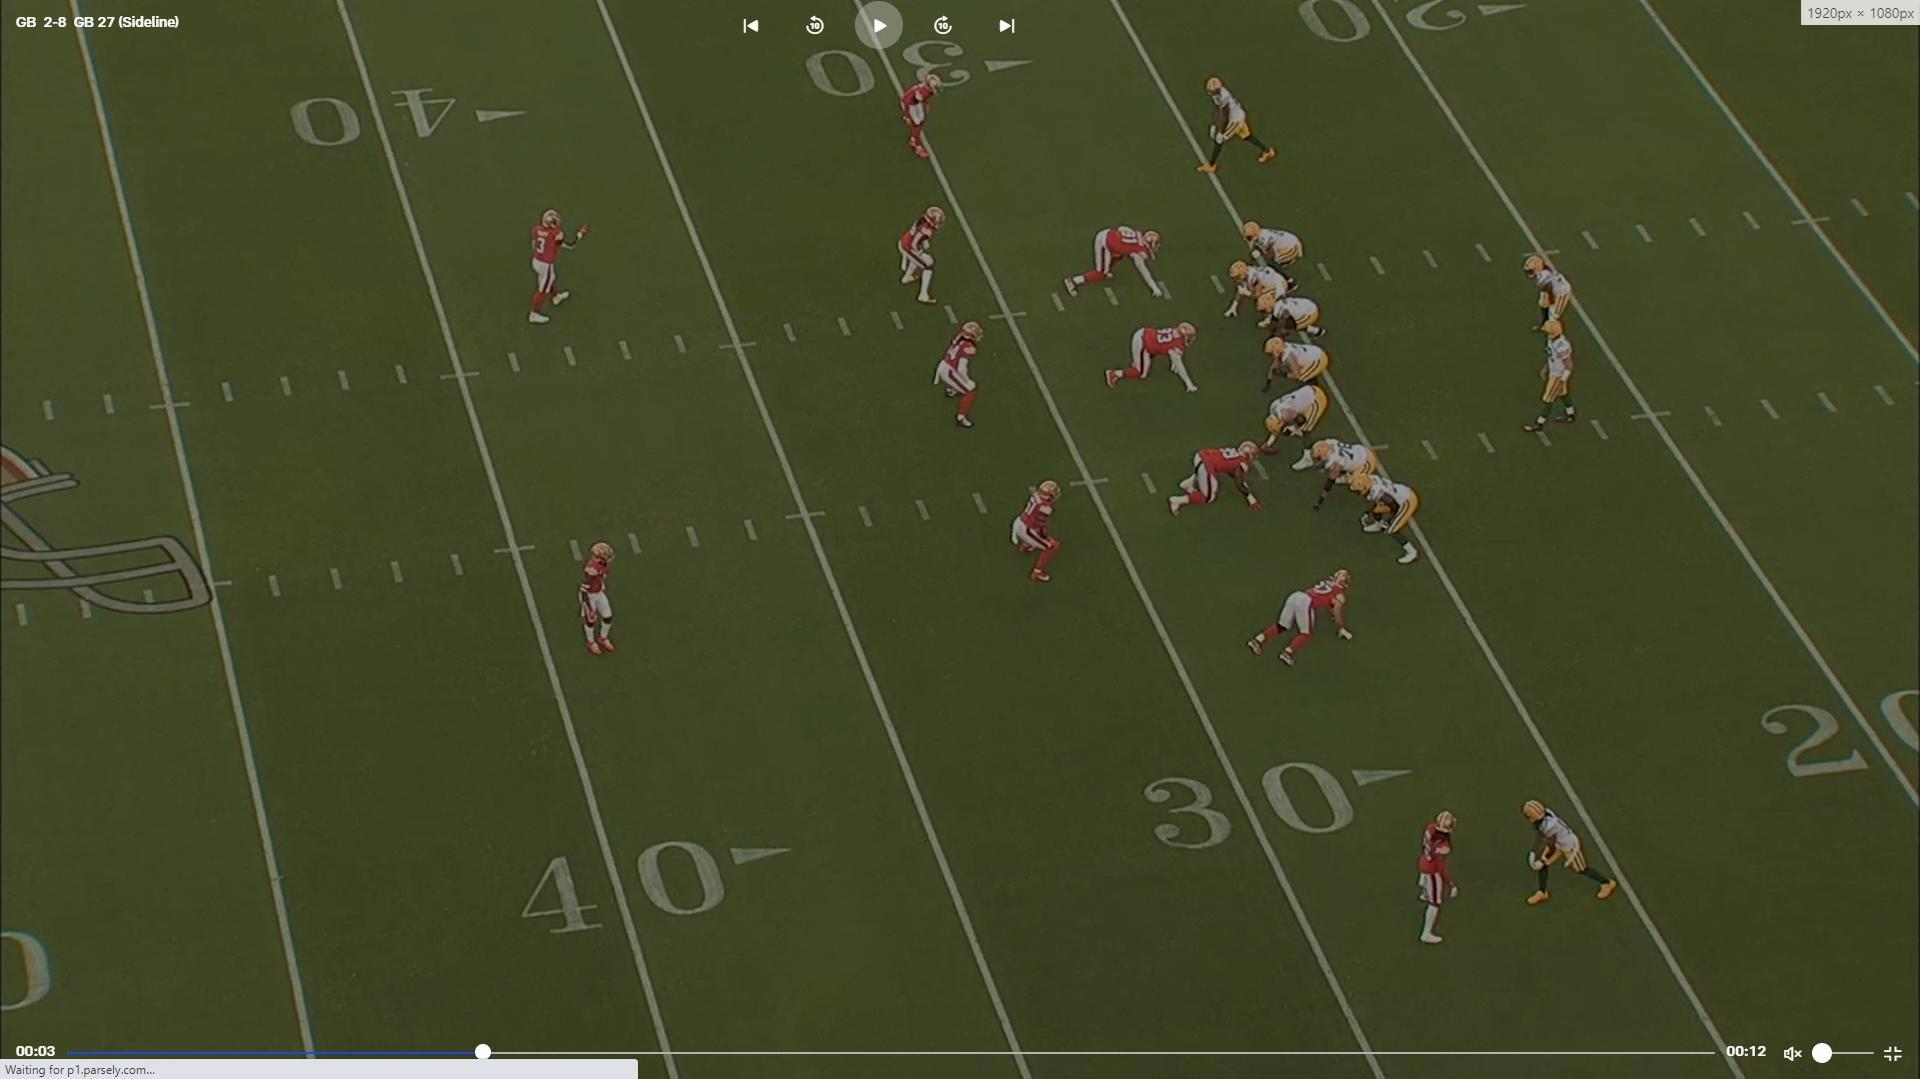defense: (1244, 567, 1356, 667), (1162, 442, 1263, 520), (1062, 223, 1163, 298), (1415, 807, 1468, 951), (1108, 321, 1207, 397), (526, 206, 582, 330), (932, 318, 989, 435), (1013, 479, 1072, 590), (579, 541, 630, 665), (899, 200, 953, 309), (903, 67, 948, 168)
oline: (1356, 467, 1427, 567), (1257, 383, 1331, 464), (1315, 438, 1389, 510), (1262, 332, 1331, 393), (1257, 290, 1323, 342)
qb: (1527, 317, 1585, 437)
skill: (1523, 798, 1622, 909), (1201, 71, 1284, 178), (1528, 253, 1578, 359), (1241, 220, 1307, 289), (1226, 260, 1292, 324)
